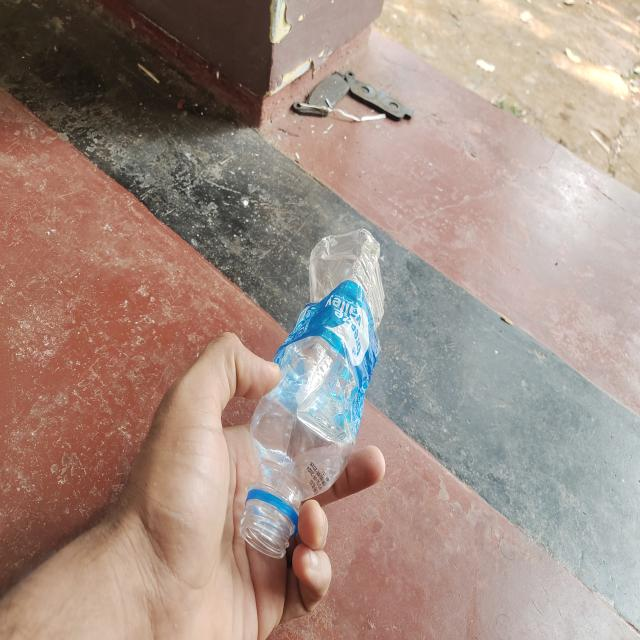plastic: (250, 225, 385, 548)
